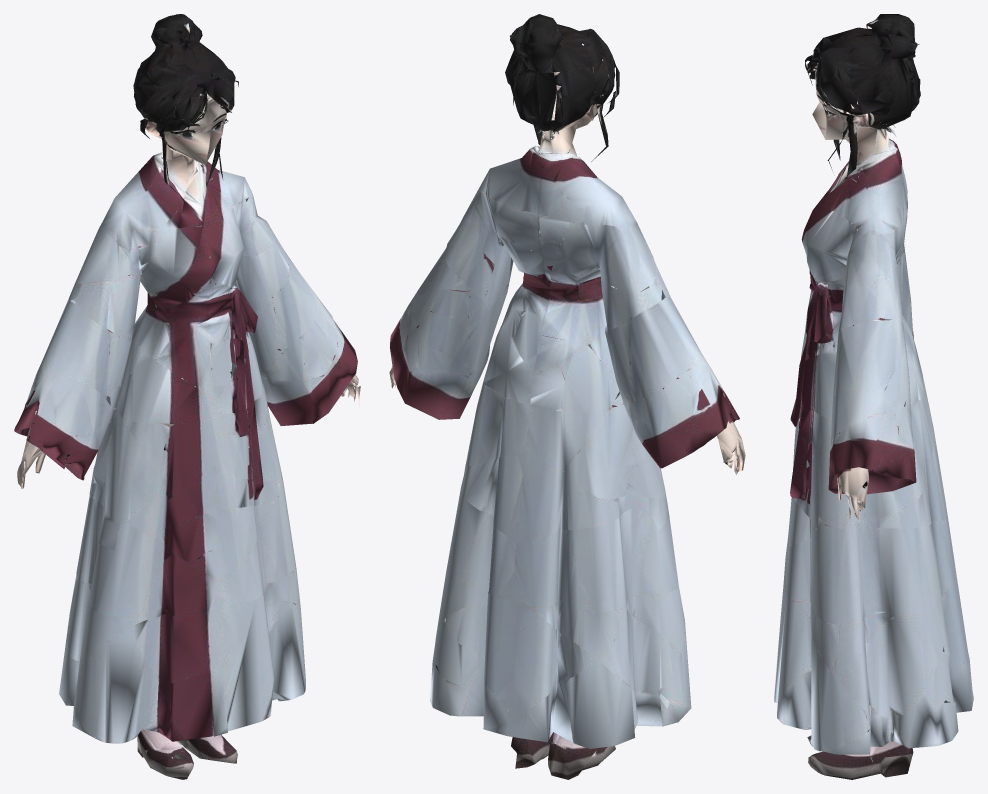
File: abisa.glb
The picture shows the model from 3 angles, left to right: view 1: azimuth 30°, elevation 25°; view 2: azimuth 150°, elevation 25°; view 3: azimuth 270°, elevation 25°; orthographic projection. The views are drawn at different scales.
Parts seen in each view (by area): view 1: Mesh_0; view 2: Mesh_0; view 3: Mesh_0.
Part boxes in pixels (box(x1,y1,x2,y2)): Mesh_0: box(14, 14, 360, 779); Mesh_0: box(389, 14, 745, 779); Mesh_0: box(774, 14, 973, 779).
Size of the model in its own units: 0.4867 by 0.997 by 0.2407.
1 material, 1 textured.
